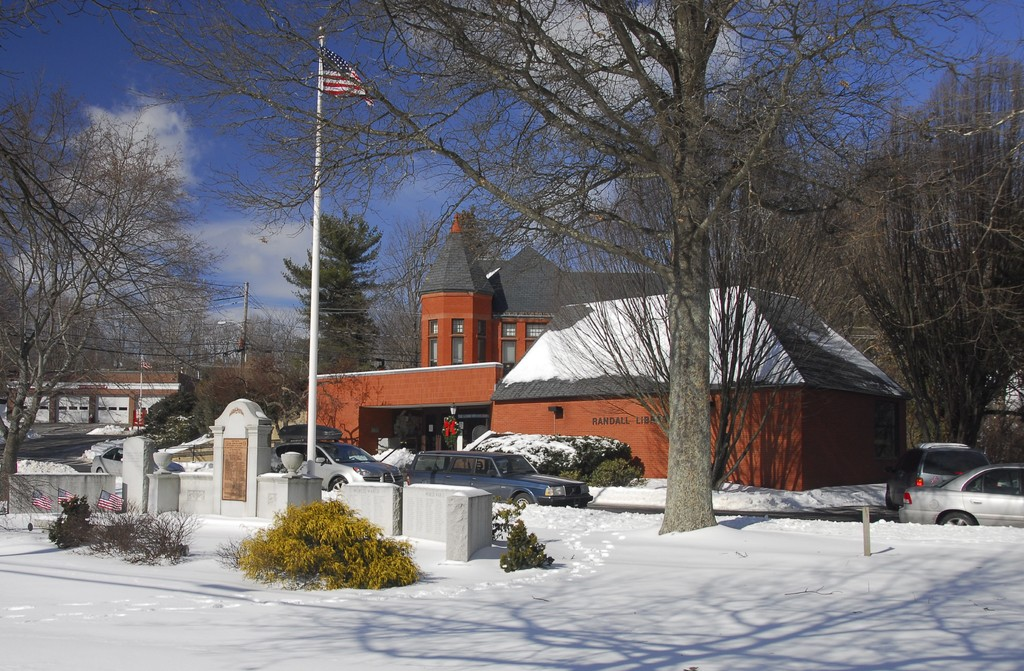Car: (404, 449, 593, 508), (270, 424, 403, 494), (897, 462, 1023, 528), (883, 441, 989, 505), (268, 421, 360, 462), (90, 444, 184, 473), (906, 432, 983, 453)
